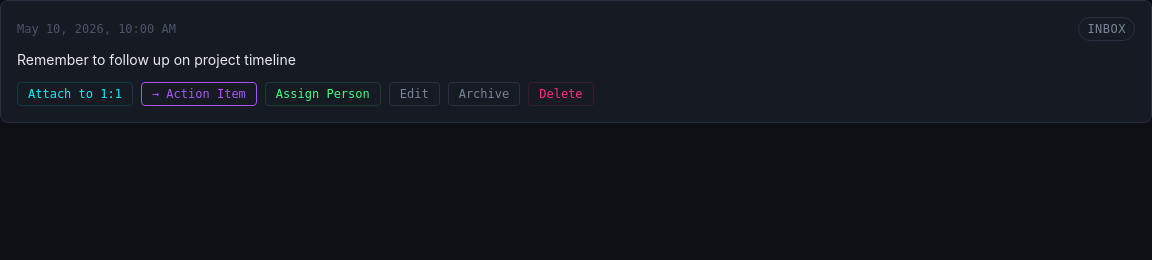
QuickNoteCard › should show attach person picker when attach is clicked without person assigned
Click the button with test id "quick-note-attach-btn" at coordinates (75, 94), box [17, 82, 133, 106]
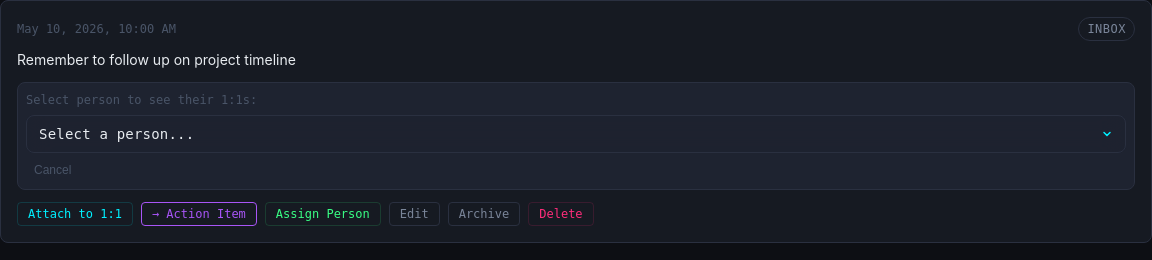
Result: the element with test id "attach-person-picker" is shown at [17, 82, 1135, 190]
